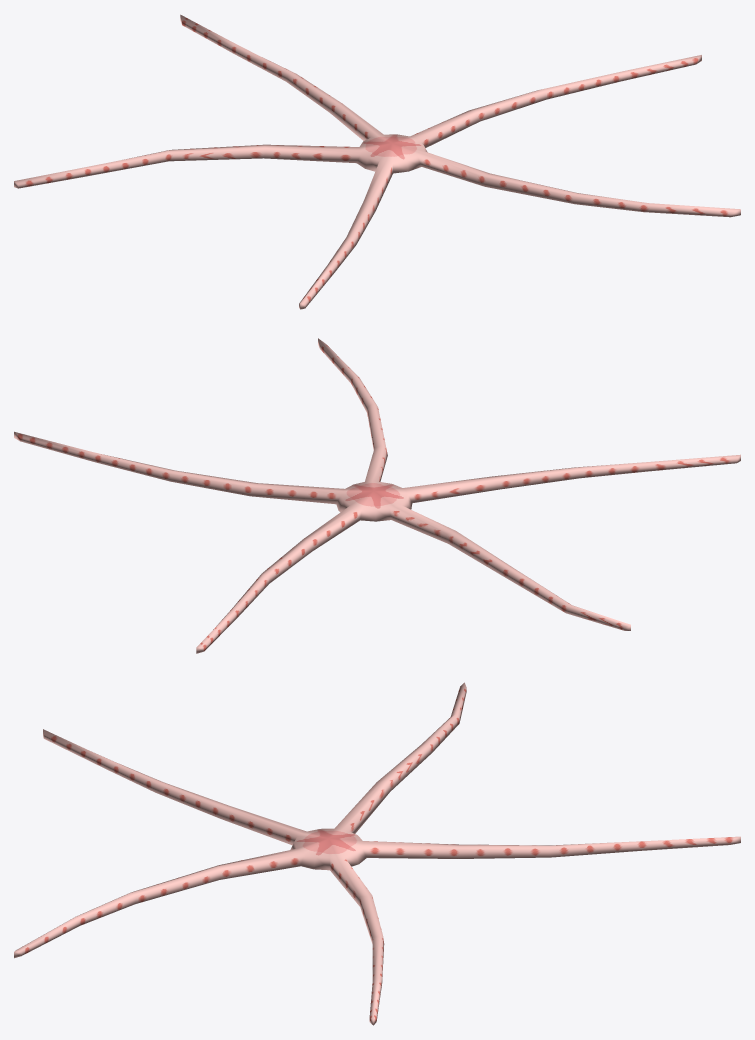
File: hydroBrittleStar00.fbx
The picture shows the model from 3 angles, top to bottom: view 1: azimuth 30°, elevation 25°; view 2: azimuth 150°, elevation 25°; view 3: azimuth 270°, elevation 25°; orthographic projection. The views are drawn at different scales.
Visible parts, largest first — view 1: hydroBrittleStar_final.002; view 2: hydroBrittleStar_final.002; view 3: hydroBrittleStar_final.002.
Part boxes in pixels (<box>): hydroBrittleStar_final.002: <box>14,14,740,309</box>; hydroBrittleStar_final.002: <box>14,338,740,653</box>; hydroBrittleStar_final.002: <box>14,682,740,1025</box>.
Bounding box in the file's own units: 0.518 × 0.0152 × 0.4724.
1 material, 1 textured.
